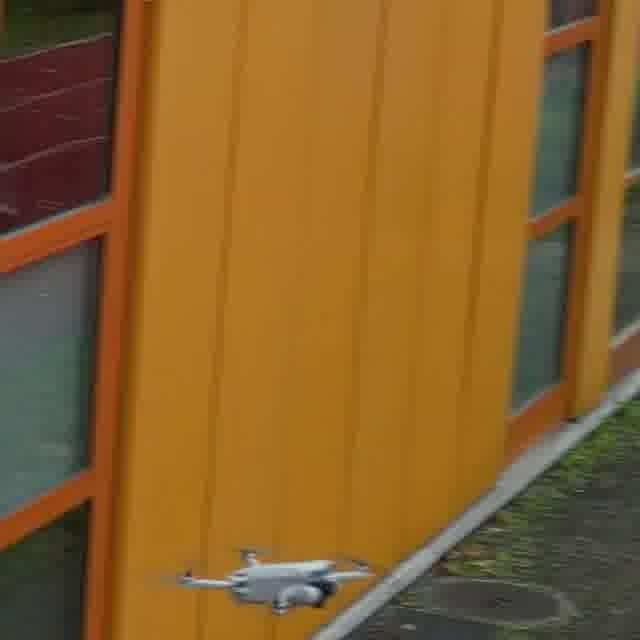Drohne: (177, 548, 371, 614)
